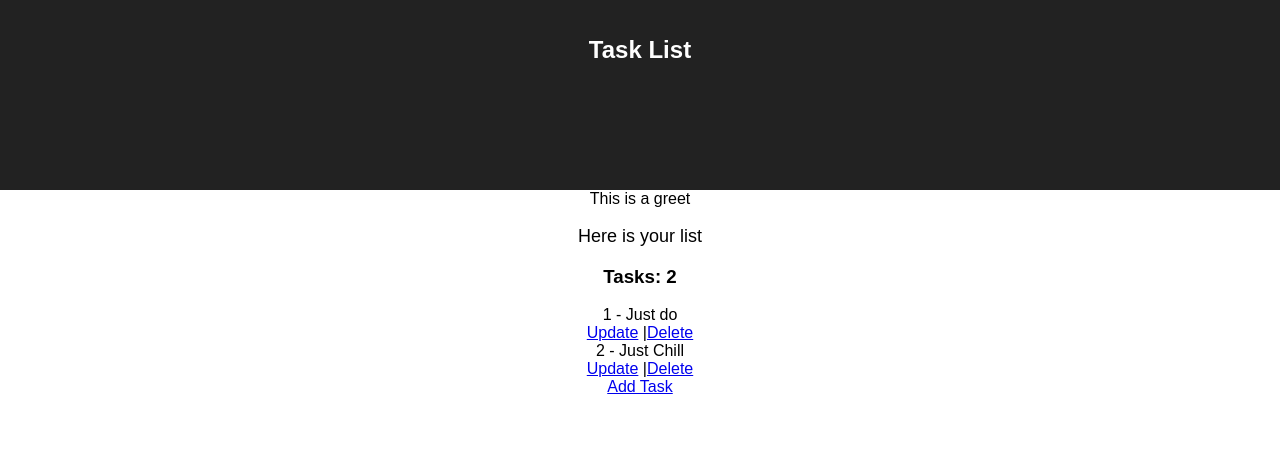
it: Add Task List › disappears after filling up form
Click the link "Add Task" at (640, 387), box x1=607 y1=378 x2=673 y2=395
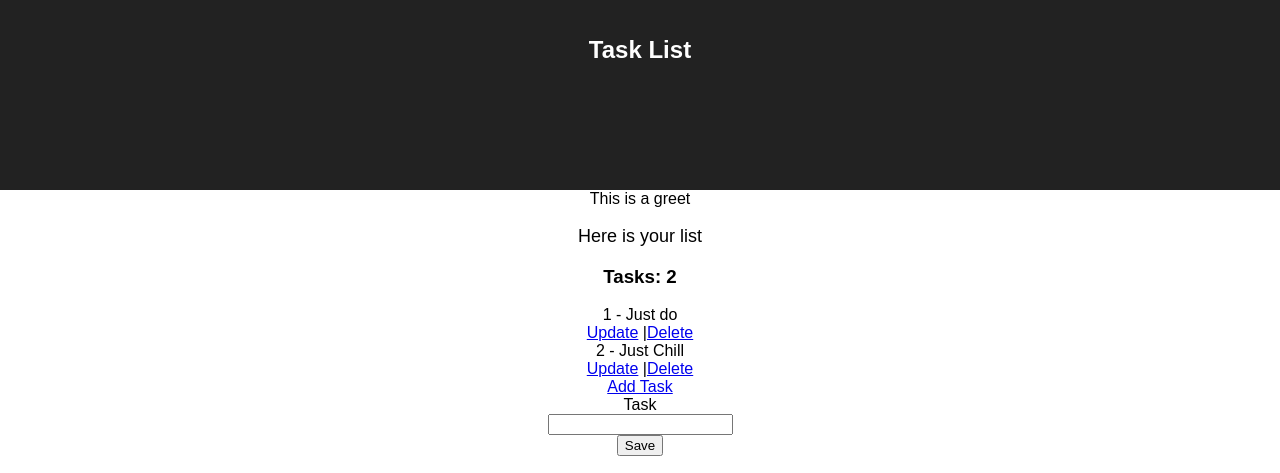
Type "Do exercise" into the field at (641, 425), box x1=548 y1=414 x2=733 y2=435
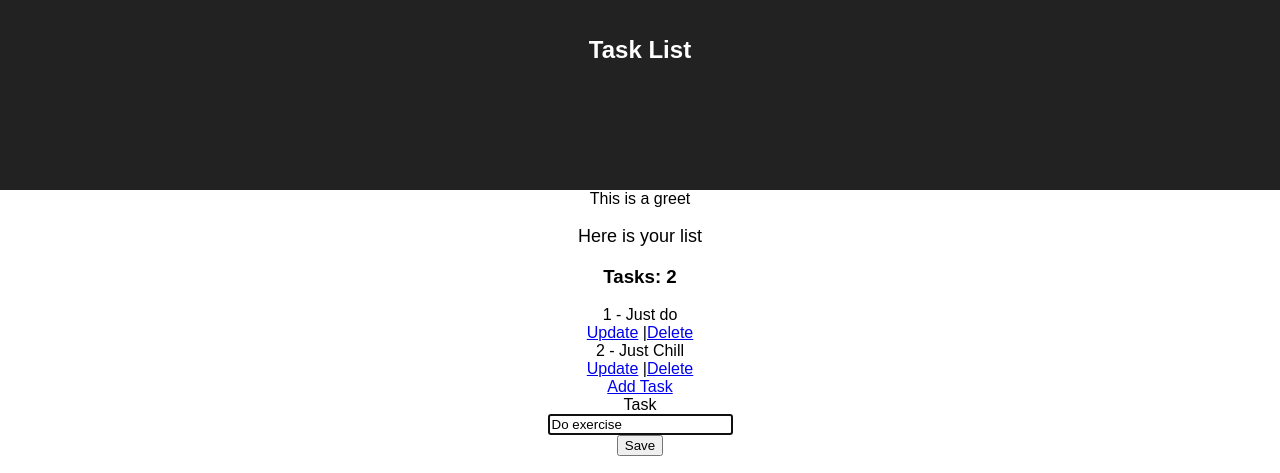
Click the button "Save" at (640, 446), box x1=617 y1=435 x2=663 y2=456
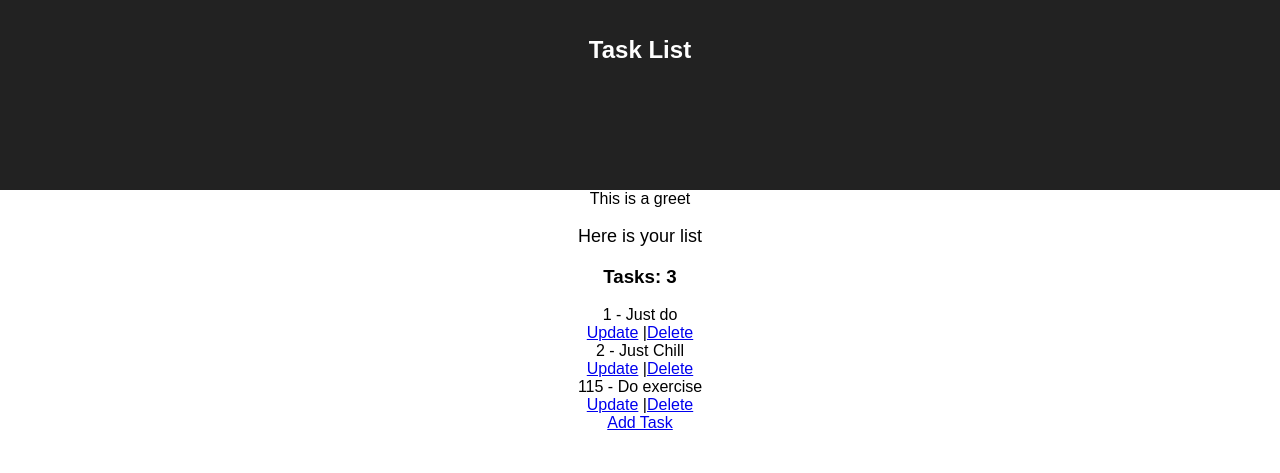
Check: the element with class "Form" is gone
